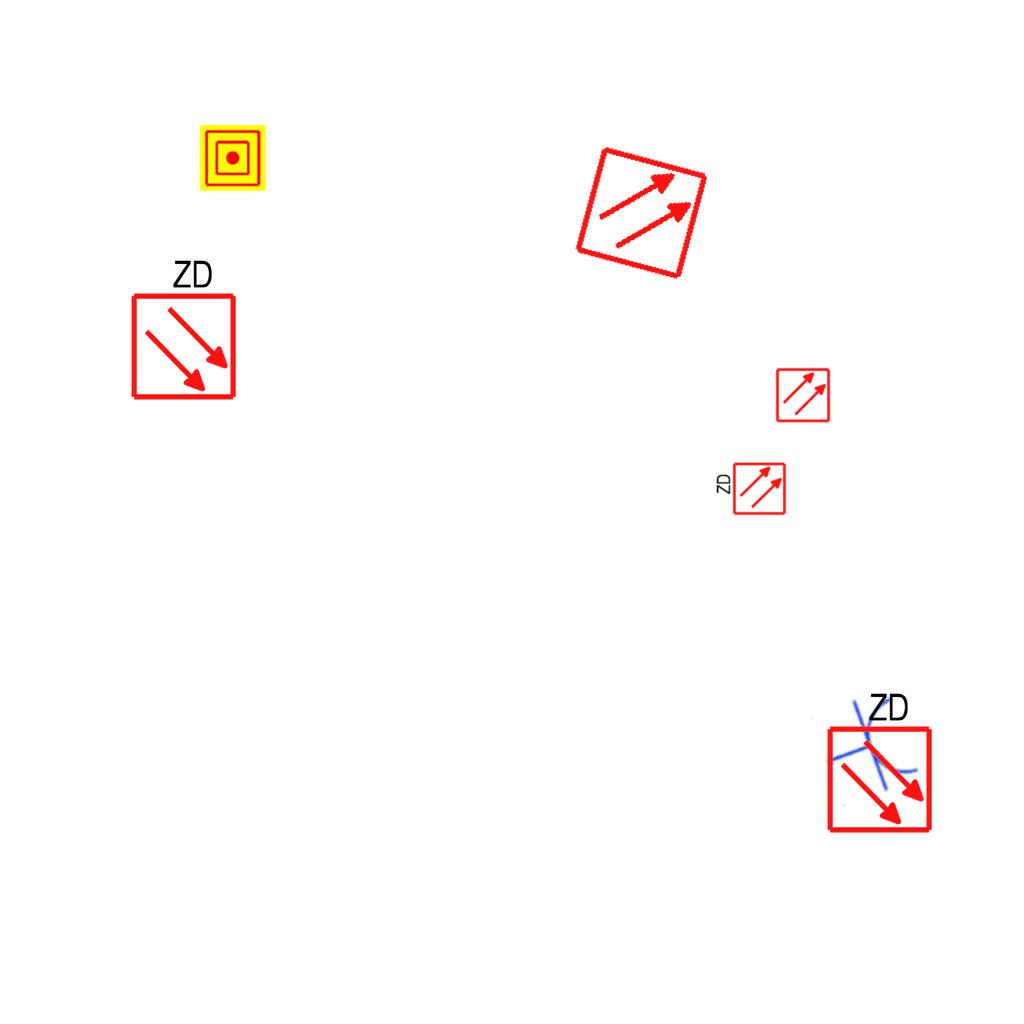NAM-Nichtautomatischer_Melder: (200, 125, 266, 191)
RMO_Rauchmelder_optischer: (572, 143, 711, 282), (775, 367, 831, 423)
Schukosteckdose_einfach: (810, 685, 926, 810)
ZD_Melder_in_Zwischendecke_mit_Revisionsoeffnung_mind_40_x_40_cm: (125, 253, 239, 402), (821, 686, 935, 835), (713, 461, 787, 518)
